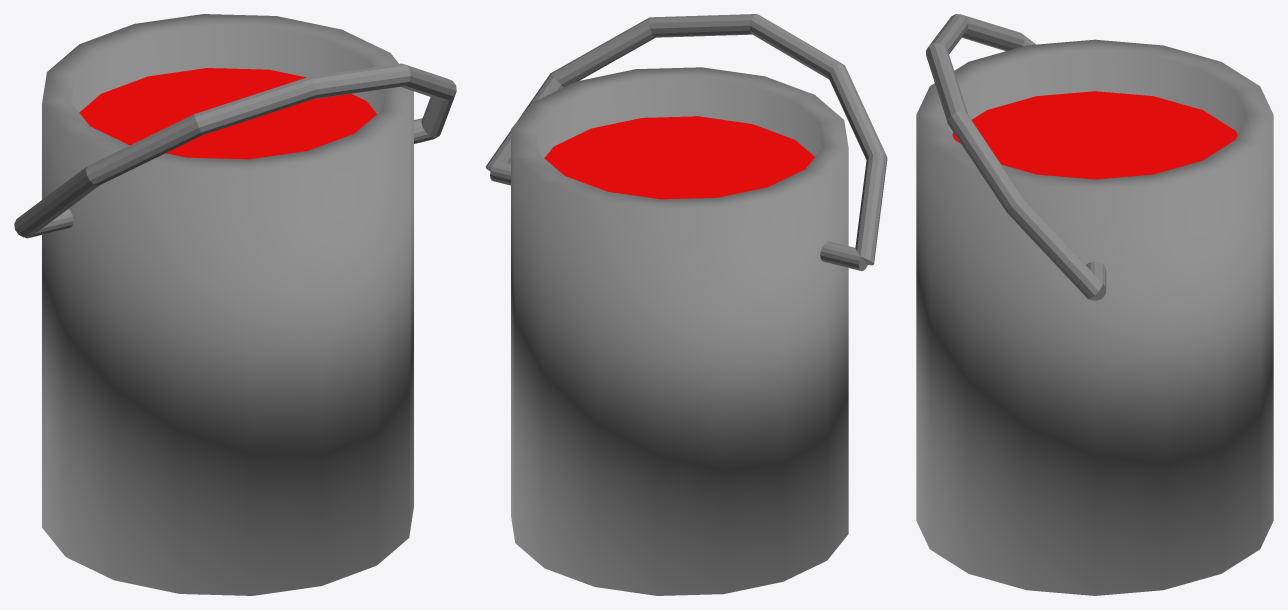
The model's file is Paint.fbx.
3 views of the same model, side by side, from view 1: azimuth 30°, elevation 25°; view 2: azimuth 150°, elevation 25°; view 3: azimuth 270°, elevation 25° (orthographic). The views are drawn at different scales.
Parts seen in each view (by area): view 1: Cylinder, Cylinder.001, Torus.005, Cylinder.002; view 2: Cylinder, Cylinder.001, Torus.005, Cylinder.002; view 3: Cylinder, Cylinder.001, Torus.005.
Part boxes in pixels (x1=…): Cylinder: x1=42, y1=14, x2=413, y2=595; Cylinder.001: x1=79, y1=68, x2=376, y2=159; Torus.005: x1=14, y1=63, x2=456, y2=237; Cylinder.002: x1=25, y1=118, x2=434, y2=238; Cylinder: x1=511, y1=67, x2=848, y2=595; Cylinder.001: x1=544, y1=116, x2=814, y2=199; Torus.005: x1=485, y1=14, x2=887, y2=265; Cylinder.002: x1=490, y1=163, x2=867, y2=270; Cylinder: x1=916, y1=39, x2=1273, y2=595; Cylinder.001: x1=952, y1=91, x2=1237, y2=179; Torus.005: x1=926, y1=14, x2=1102, y2=299.
Bounding box in the file's own units: 525 × 589 × 400.
